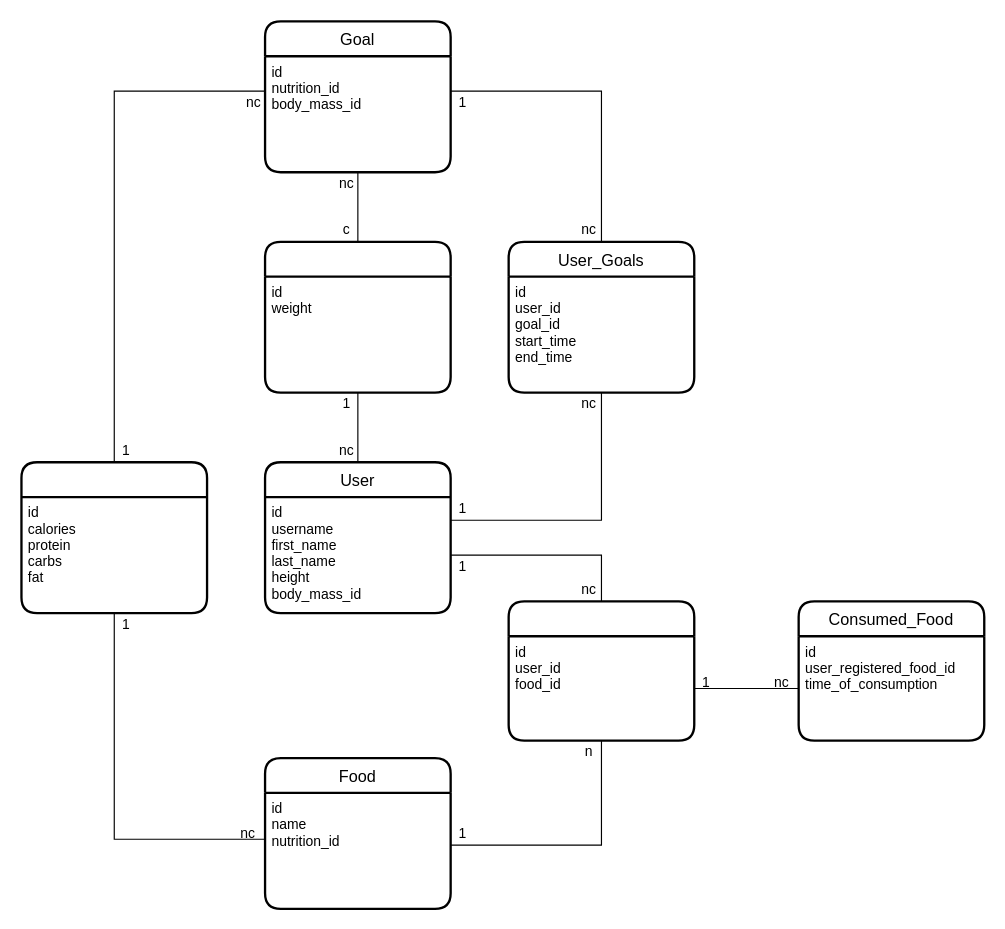
Some shapes in this 1005 by 929 pixel diagram are drawn without their labels. The shapes that lost their labels are listed below. From the top down, each one's box as (x1, y1, x2, y2) in pixels, then its label:
(263, 240, 451, 393): Body_Mass
(20, 461, 208, 614): Nutrition
(507, 600, 695, 741): User_Registered_Food
